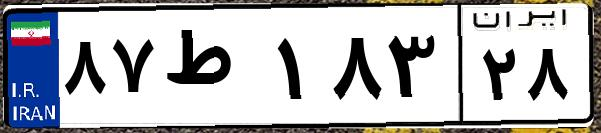1: (270, 28, 330, 110)
2: (475, 38, 525, 113)
3: (385, 28, 445, 110)
7: (110, 28, 158, 98)
8: (330, 28, 385, 110), (57, 26, 110, 100), (525, 38, 570, 115)
ط: (158, 20, 270, 120)
